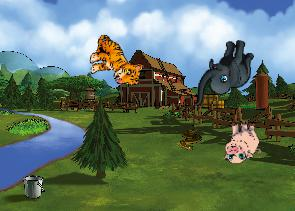elephant: (193, 36, 254, 110)
pig: (221, 120, 261, 163)
tiger: (85, 33, 147, 88)
